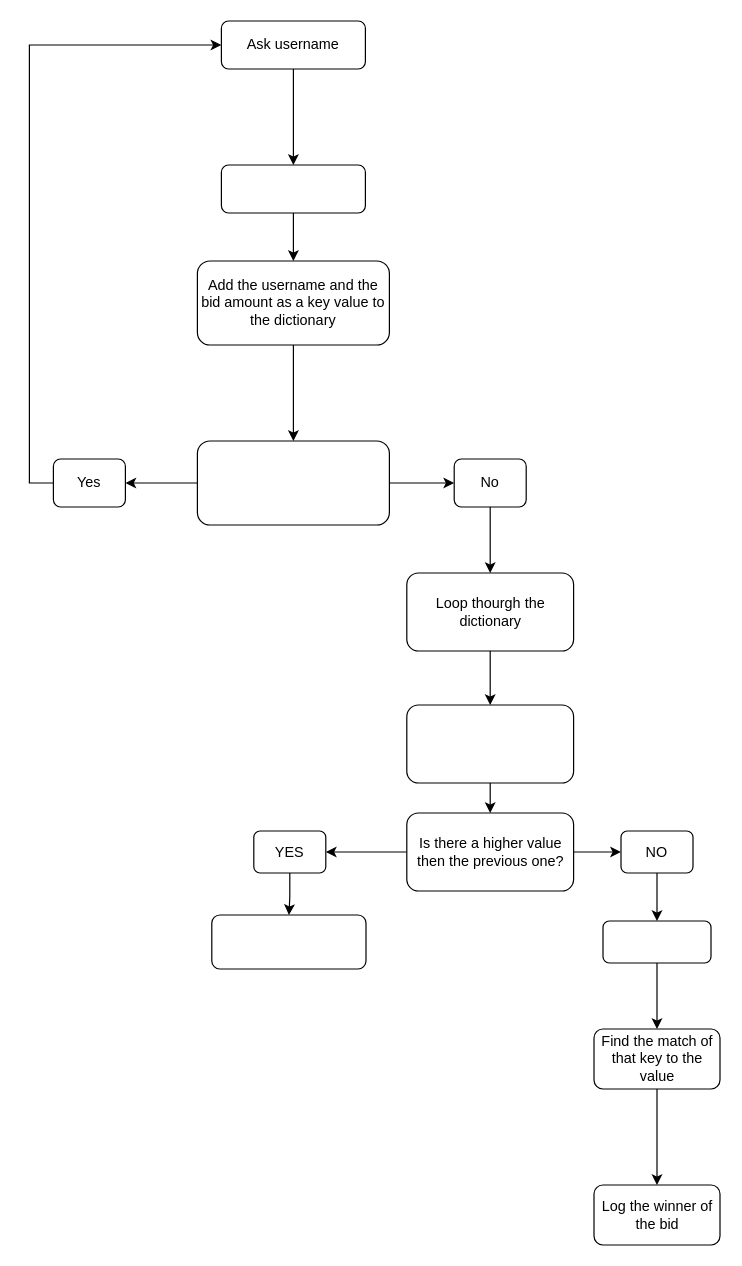
The diagram is 742 pixels wide and 1266 high, and some of its shapes have lost their labels. The box of each missing label's shape, as (x1, y1, x2, y2) in pixels:
Ask for bid amount: (220, 164, 365, 213)
Found the highest value: (602, 920, 711, 963)
Is there more bidders?: (196, 440, 389, 525)
replace current value with the higher one in the iteration: (211, 914, 366, 969)
Set global variable to store the current value of each iteration of a key: (406, 704, 574, 783)
